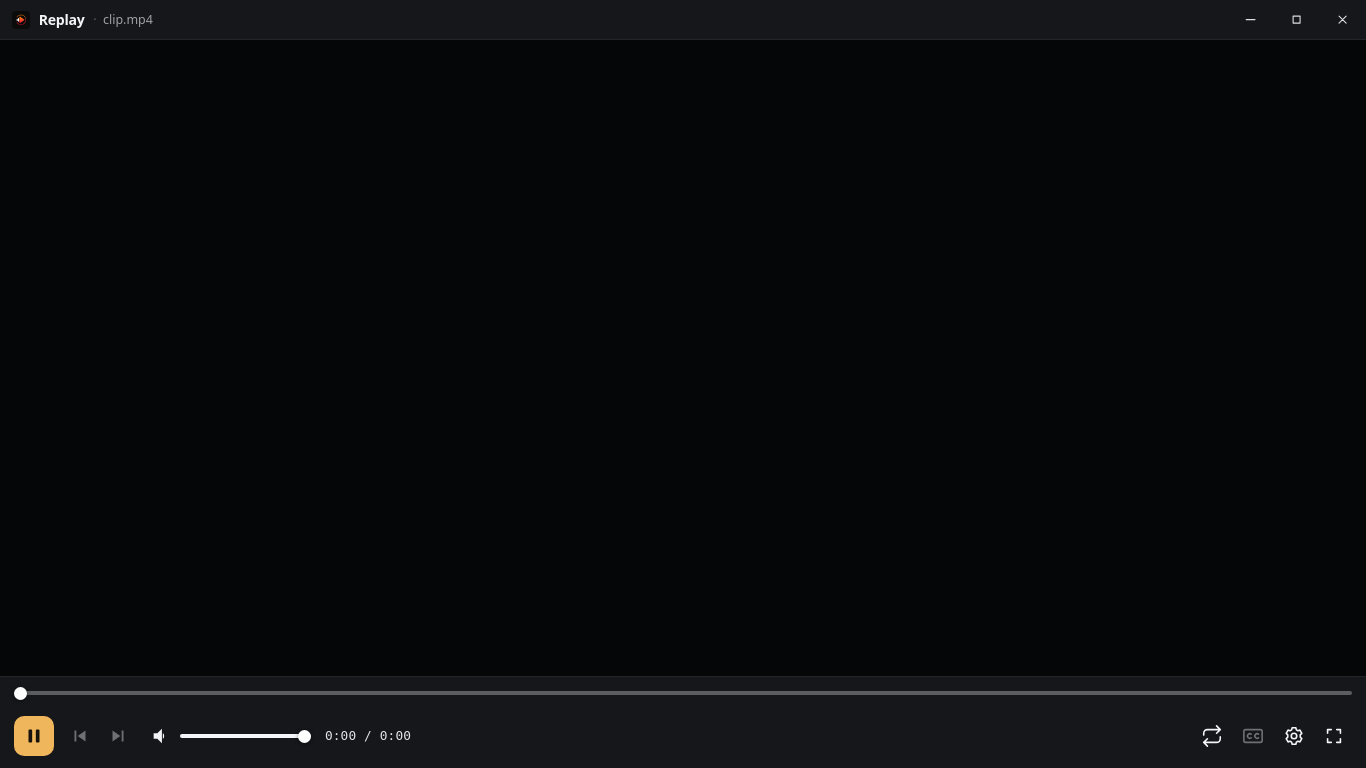
Test: windowed vs fullscreen chrome › opens settings popup without breaking player layout
Click the button named "Settings" at (1294, 736), box x1=1276 y1=718 x2=1312 y2=754
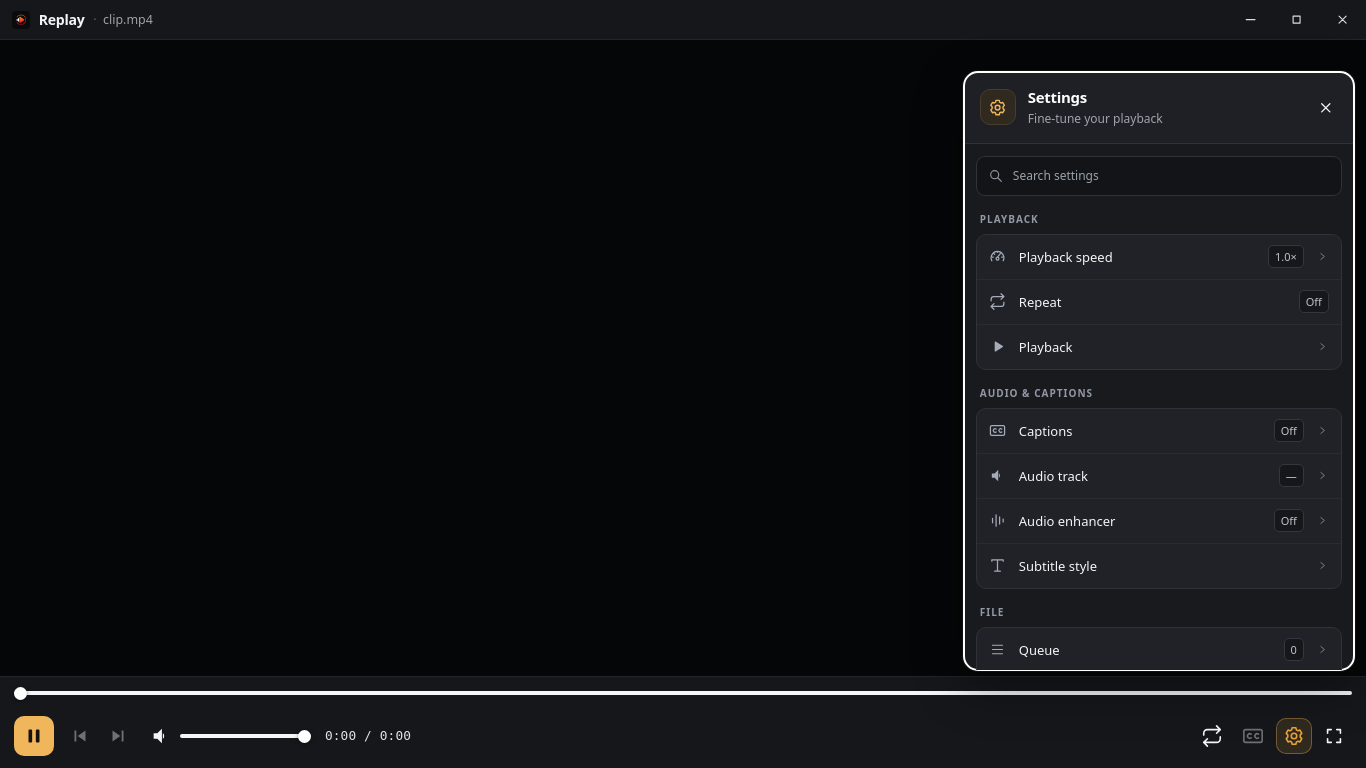
Expected: the dialog "Settings" is shown, x1=963 y1=71 x2=1355 y2=671
